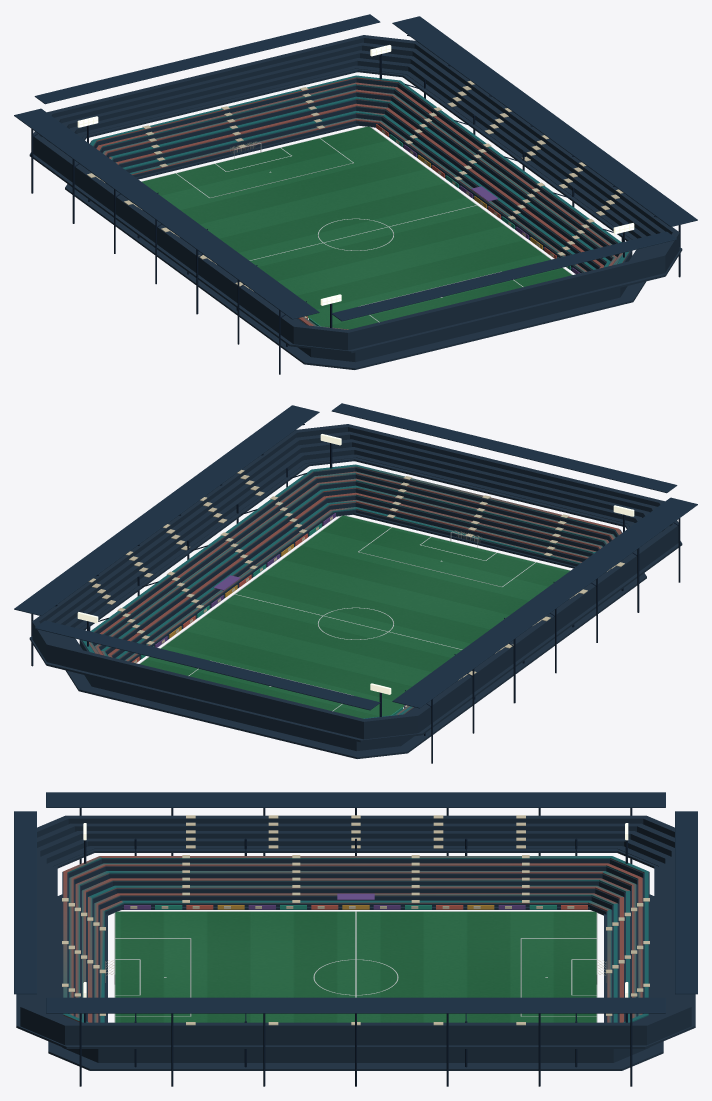
File: stadium-evening.glb
The picture shows the model from 3 angles, top to bottom: view 1: azimuth 30°, elevation 25°; view 2: azimuth 150°, elevation 25°; view 3: azimuth 270°, elevation 25°; orthographic projection. The views are drawn at different scales.
Visible parts, largest first — view 1: pitch_surface, upper_stands, stand_shell, roof, seating, beams, field_markings, aisles, upper_aisles, advertising_boards, floodlights; view 2: pitch_surface, upper_stands, stand_shell, roof, seating, beams, field_markings, aisles, upper_aisles, advertising_boards, floodlights; view 3: upper_stands, pitch_surface, stand_shell, roof, seating, beams, advertising_boards, field_markings, aisles, upper_aisles.
Part boxes in pixels (x1,y1,x2,y2): pitch_surface: (141, 126, 571, 329); upper_stands: (29, 35, 682, 353); stand_shell: (65, 78, 646, 369); roof: (14, 14, 697, 321); seating: (90, 75, 629, 329); beams: (31, 35, 680, 374); field_markings: (141, 126, 572, 322); aisles: (142, 87, 594, 317); upper_aisles: (87, 80, 623, 291); advertising_boards: (306, 124, 580, 326); floodlights: (77, 45, 634, 305); pitch_surface: (140, 515, 570, 718); upper_stands: (29, 424, 682, 742); stand_shell: (65, 467, 646, 758); roof: (14, 403, 697, 710); seating: (82, 464, 621, 718); beams: (31, 424, 680, 763); field_markings: (139, 515, 570, 711); aisles: (117, 476, 569, 706); upper_aisles: (88, 469, 624, 680); advertising_boards: (131, 513, 405, 715); floodlights: (77, 434, 634, 694); upper_stands: (16, 815, 695, 1048); pitch_surface: (115, 911, 596, 1022); stand_shell: (48, 859, 663, 1070); roof: (14, 792, 697, 1013); seating: (63, 856, 648, 1022); beams: (79, 808, 632, 1086); advertising_boards: (124, 905, 587, 909); field_markings: (114, 911, 597, 1022); aisles: (62, 855, 649, 1015); upper_aisles: (186, 815, 525, 1025).
Bounding box in the file's own units: 114 × 18.12 × 149.
3 materials, 1 textured.
